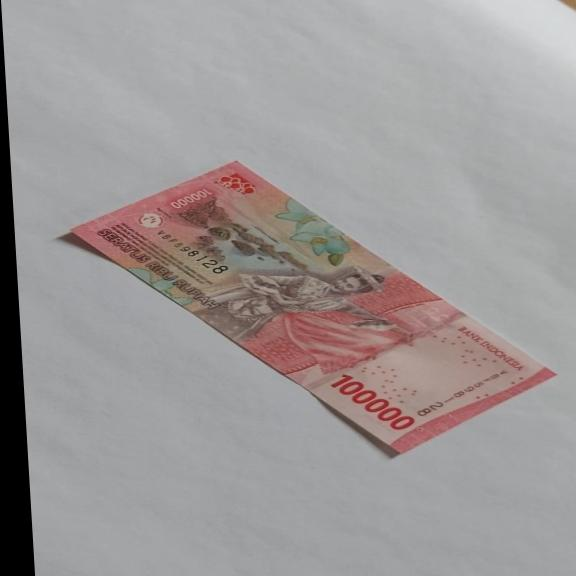Kertas: (63, 159, 563, 457), (328, 374, 417, 430)
